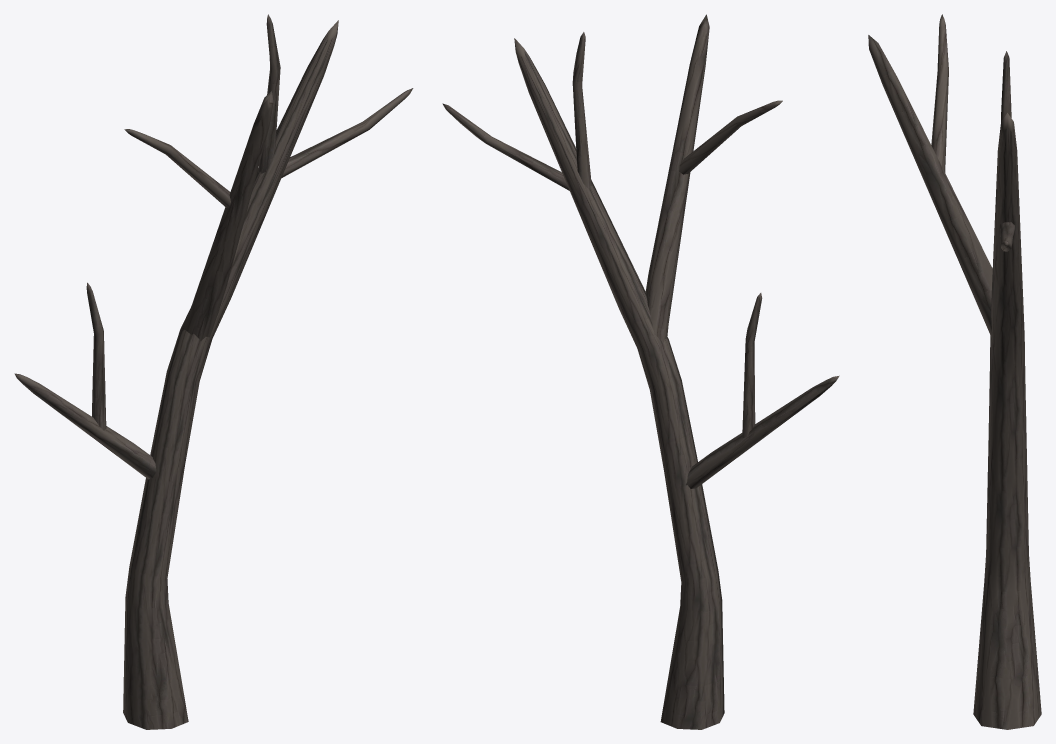
Rendered from dead_3.glb.
3 renders of one model, left to right at view 1: azimuth 30°, elevation 25°; view 2: azimuth 150°, elevation 25°; view 3: azimuth 270°, elevation 25°, orthographic. The views are drawn at different scales.
Parts seen in each view (by area): view 1: DeadTree_9; view 2: DeadTree_9; view 3: DeadTree_9.
Part boxes in pixels (left/top/right/bottom): DeadTree_9: left=14, top=14, right=413, bottom=729; DeadTree_9: left=442, top=14, right=839, bottom=729; DeadTree_9: left=868, top=14, right=1041, bottom=729.
Size of the model in its own units: 2.06 by 3.3 by 0.7175.
1 material, 1 textured.
